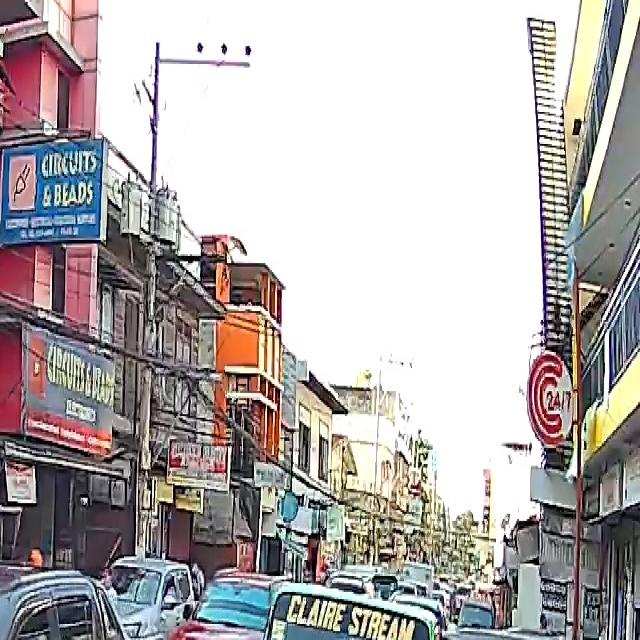car: (0, 563, 170, 640), (164, 572, 330, 640), (107, 560, 203, 640), (443, 626, 639, 640), (332, 571, 381, 599)
